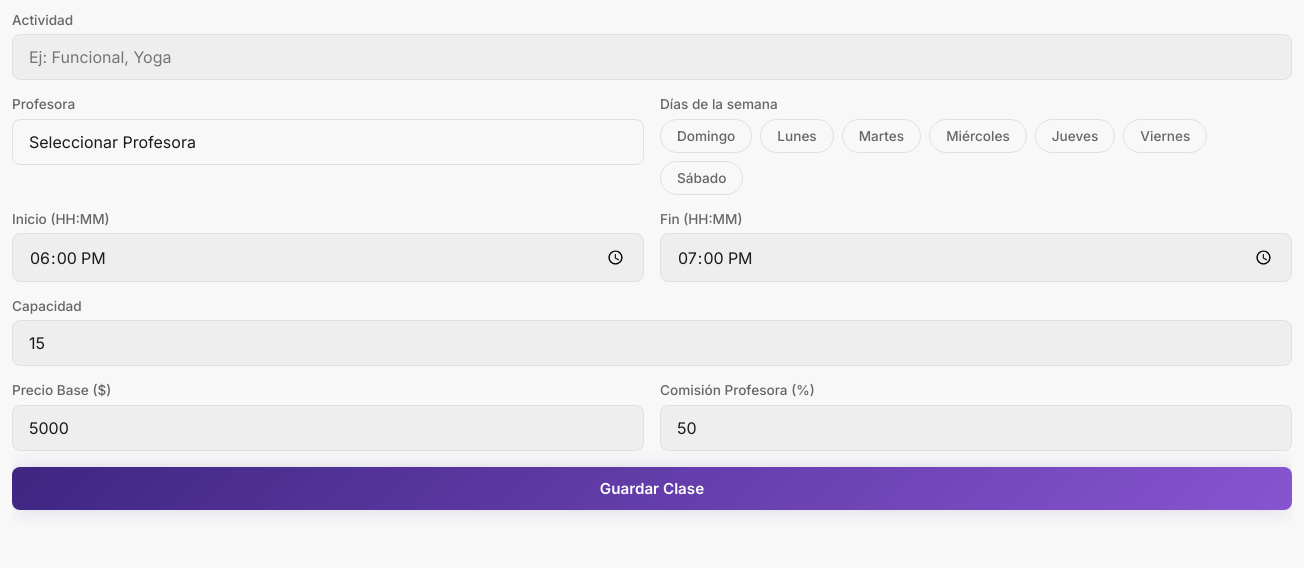
Test case: ClassForm › end_time antes que start_time: rechaza submit y muestra error
Step 1. Type "Yoga" into the field with placeholder "Ej: Funcional, Yoga" → (652, 57), box left=12, top=34, right=1292, bottom=80
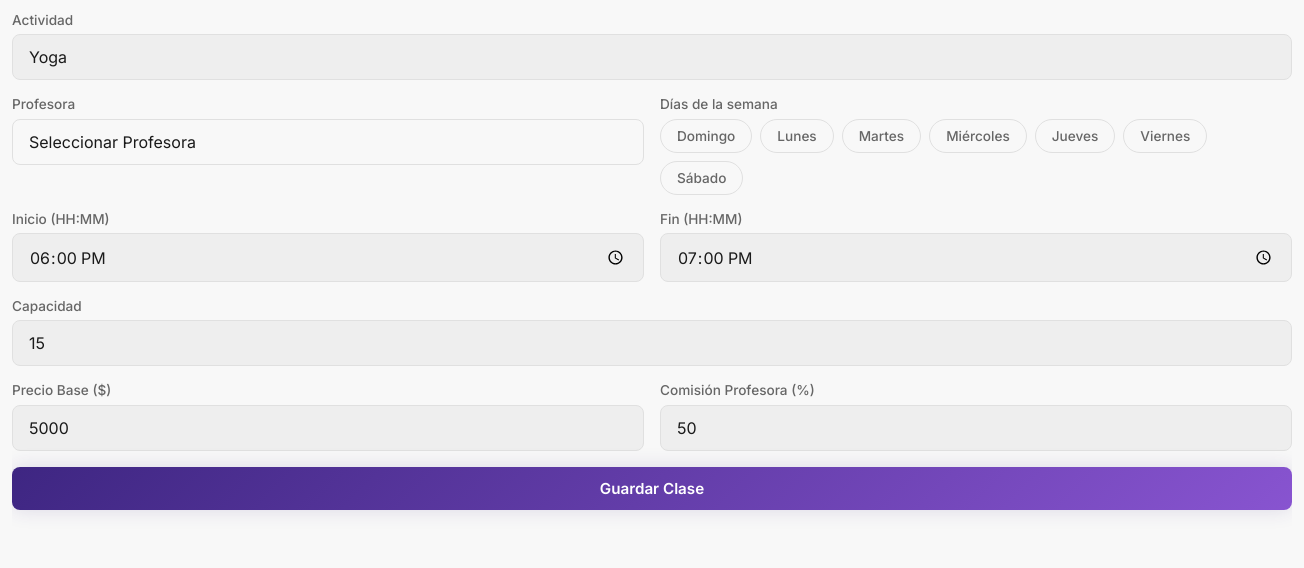
Step 2. Select "María Gómez" in the dropdown showing "Seleccionar Profesora" → (328, 142), box left=12, top=119, right=644, bottom=165
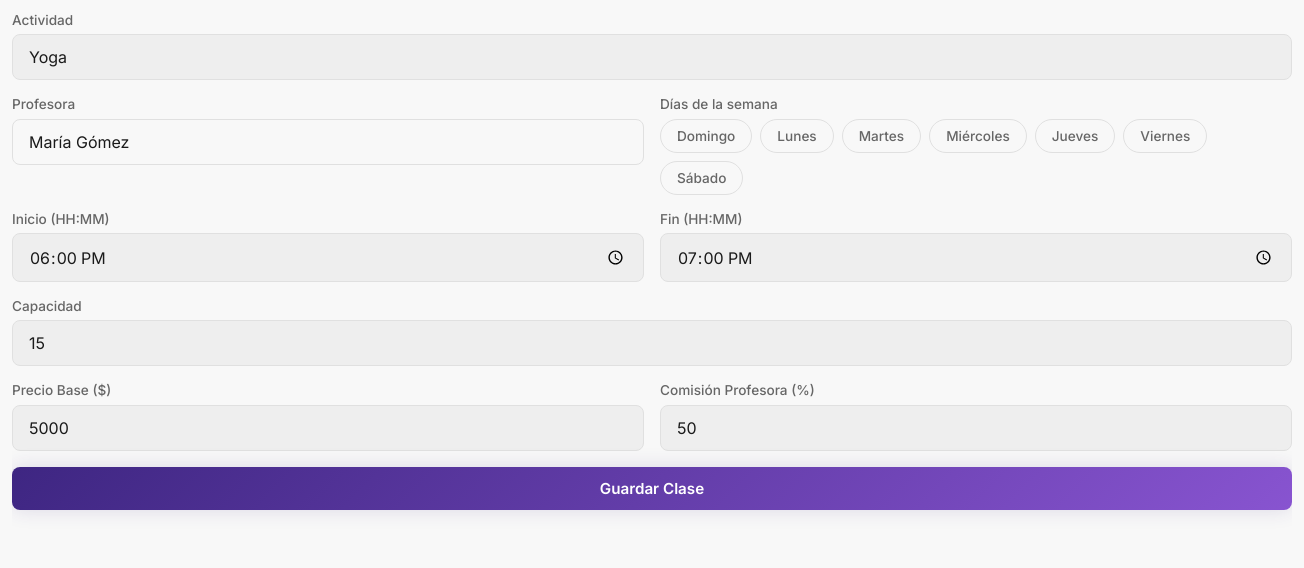
Select a day so the day validation passes first
Step 3. Click the button "Lunes" → (797, 136), box left=760, top=119, right=834, bottom=153
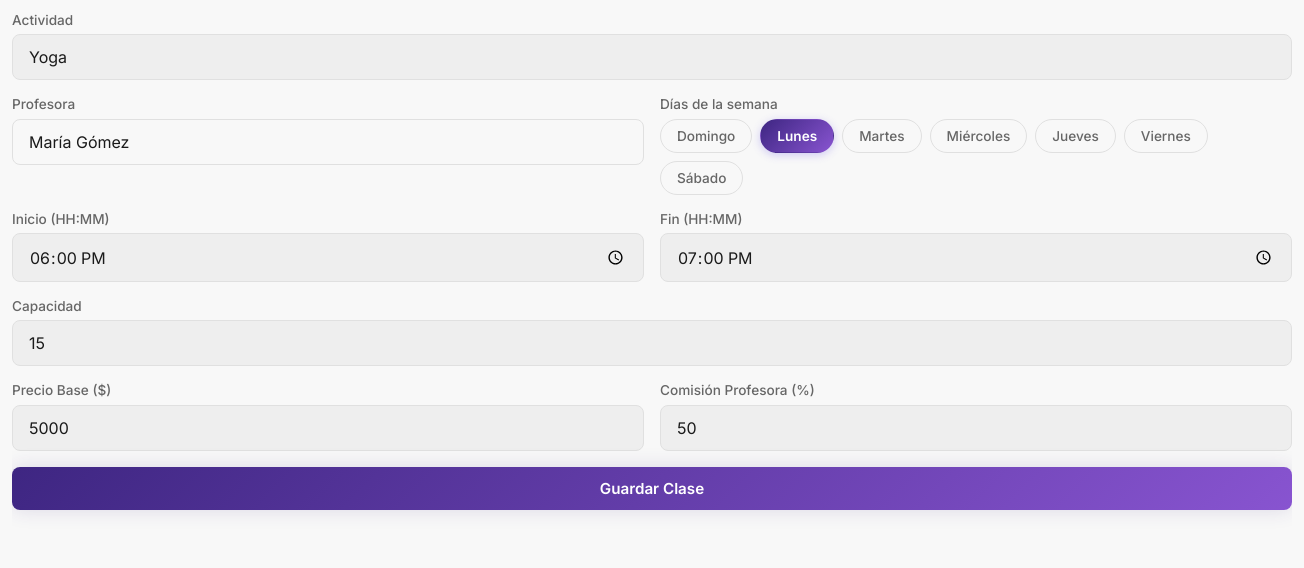
Step 4. Submit the form
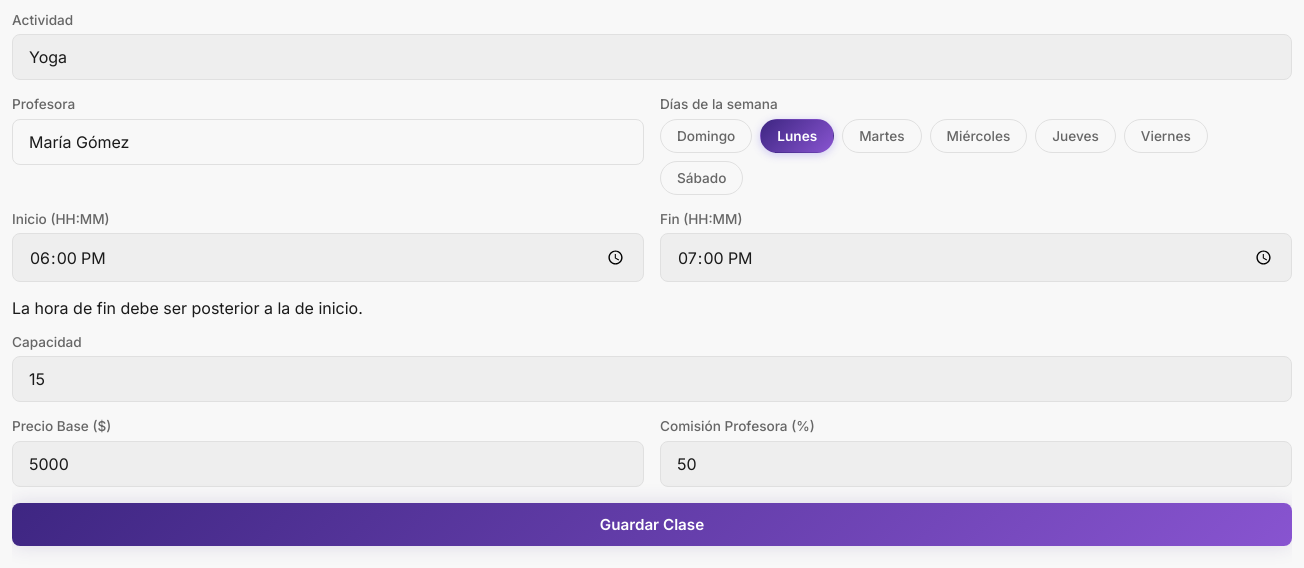
Check: the text "La hora de fin debe ser posterior a la de inicio." is shown, box left=12, top=298, right=363, bottom=318
